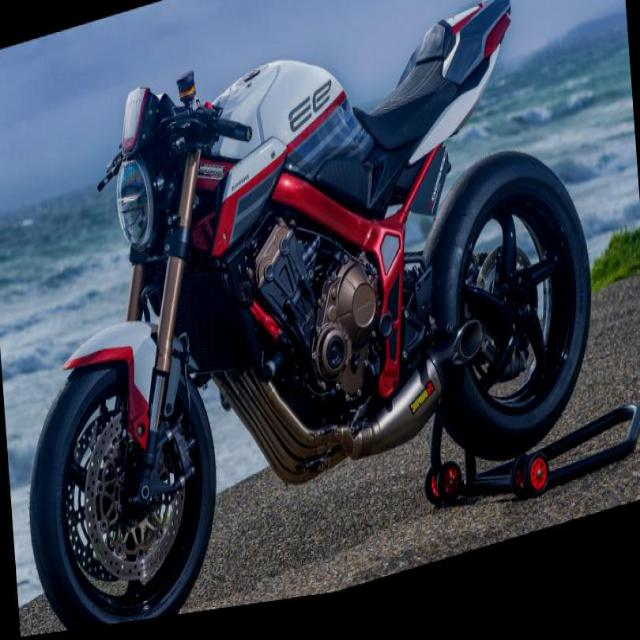CB650R: (1, 0, 611, 639)
